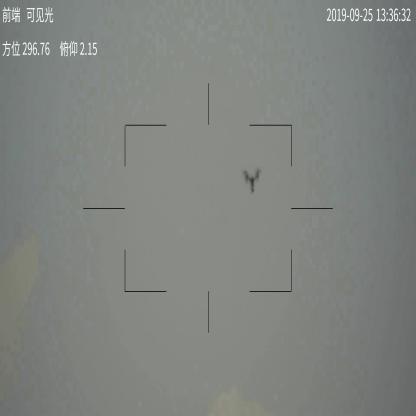uav: (242, 164, 261, 198)
